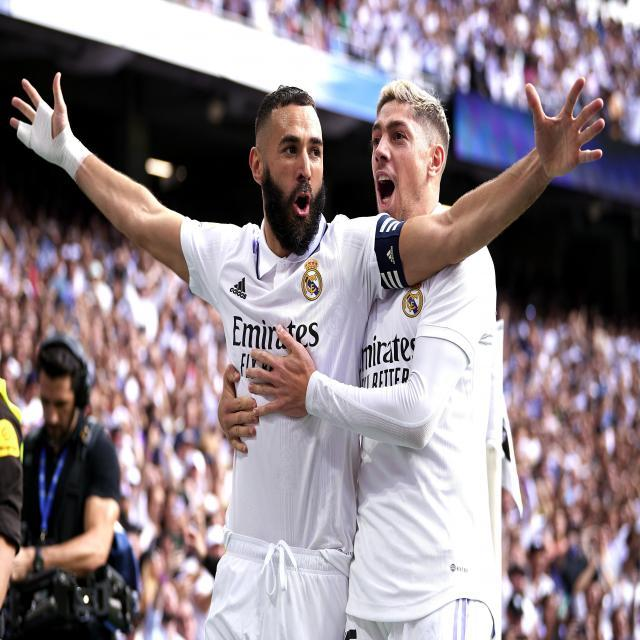Adidas: (230, 276, 246, 300), (387, 245, 396, 265)
Emirates: (233, 313, 320, 376), (357, 335, 416, 389)
